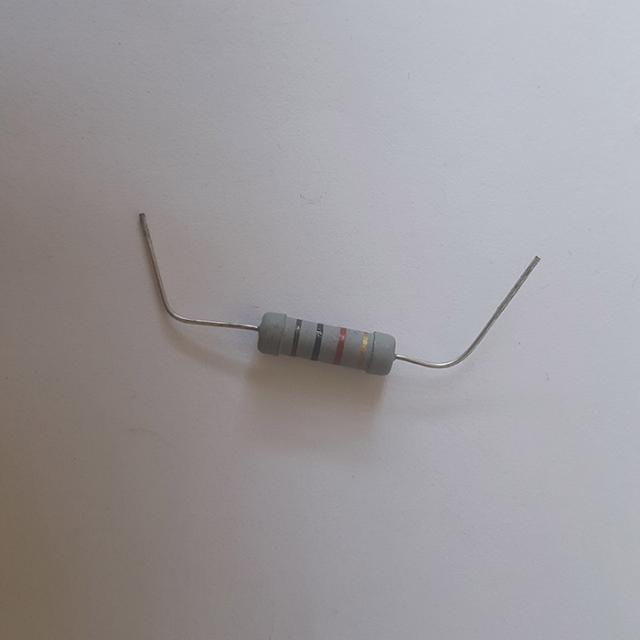black: (313, 322, 324, 359)
brown: (293, 318, 301, 355)
gold: (359, 331, 368, 368)
red: (336, 326, 346, 363)
resistor: (247, 298, 406, 384)
